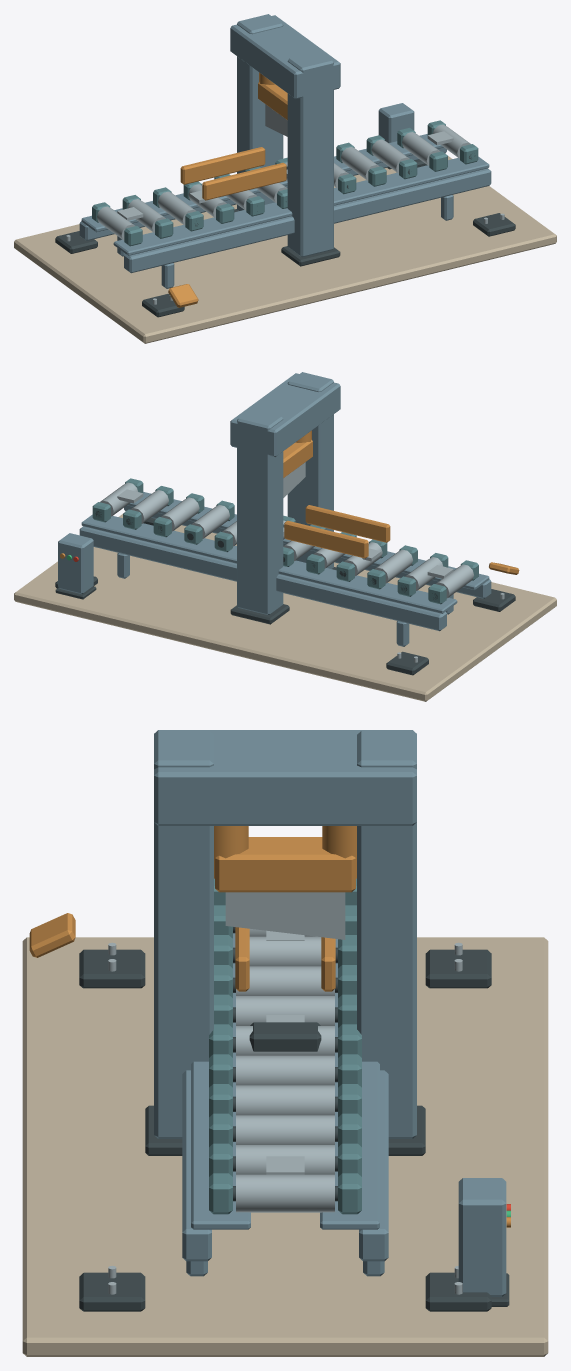
Rendered from CUT-BLOOM-lod2.glb.
The picture shows the model from 3 angles, top to bottom: view 1: azimuth 30°, elevation 25°; view 2: azimuth 150°, elevation 25°; view 3: azimuth 270°, elevation 25°; orthographic projection. The views are drawn at different scales.
Visible parts, largest first — view 1: foundation, shear_column_0.85, bed_side_0.74, bearing_seat_0.74, hydraulic_bridge, shear_column_-0.85, section_guide_-1, section_guide_1, bearing_seat_-0.74, control_cabinet, knife_crosshead, bed_side_-0.74 (+14 smaller); view 2: foundation, shear_column_-0.85, bed_side_-0.74, hydraulic_bridge, bearing_seat_-0.74, shear_column_0.85, control_cabinet, section_guide_1, section_guide_-1, bearing_seat_0.74, knife_crosshead, bed_side_0.74 (+12 smaller); view 3: foundation, hydraulic_bridge, shear_column_-0.85, shear_column_0.85, knife_crosshead, control_cabinet, section_shear_blade, bearing_seat_0.74, bearing_seat_-0.74, support_roll_11, support_roll_7, support_roll_8 (+22 smaller).
Boxes of the visible parts, <box> form: foundation: <box>14,156,556,343</box>; shear_column_0.85: <box>287,51,333,257</box>; bed_side_0.74: <box>124,168,491,273</box>; bearing_seat_0.74: <box>113,156,489,255</box>; hydraulic_bridge: <box>230,15,340,98</box>; shear_column_-0.85: <box>237,14,283,210</box>; section_guide_-1: <box>180,147,265,184</box>; section_guide_1: <box>202,162,286,200</box>; bearing_seat_-0.74: <box>81,134,443,232</box>; control_cabinet: <box>378,103,414,142</box>; knife_crosshead: <box>258,82,287,119</box>; bed_side_-0.74: <box>79,147,446,240</box>; foundation: <box>14,514,556,701</box>; shear_column_-0.85: <box>237,409,283,615</box>; bed_side_-0.74: <box>79,526,446,631</box>; hydraulic_bridge: <box>230,373,340,456</box>; bearing_seat_-0.74: <box>81,514,457,613</box>; shear_column_0.85: <box>287,372,333,568</box>; control_cabinet: <box>58,533,93,594</box>; section_guide_1: <box>305,505,390,542</box>; section_guide_-1: <box>284,520,368,558</box>; bearing_seat_0.74: <box>127,492,489,590</box>; knife_crosshead: <box>283,440,312,477</box>; bed_side_0.74: <box>124,505,491,598</box>; foundation: <box>22,937,548,1356</box>; hydraulic_bridge: <box>154,730,416,825</box>; shear_column_-0.85: <box>357,731,416,1138</box>; shear_column_0.85: <box>154,731,213,1138</box>; knife_crosshead: <box>215,837,355,892</box>; control_cabinet: <box>458,1178,506,1296</box>; section_shear_blade: <box>225,892,345,939</box>; bearing_seat_0.74: <box>191,933,250,1229</box>; bearing_seat_-0.74: <box>320,939,379,1229</box>; support_roll_11: <box>236,1174,334,1212</box>; support_roll_7: <box>236,1055,334,1085</box>; support_roll_8: <box>236,1085,334,1115</box>.
Size of the model in its own units: 8 by 3.82 by 4.4.
